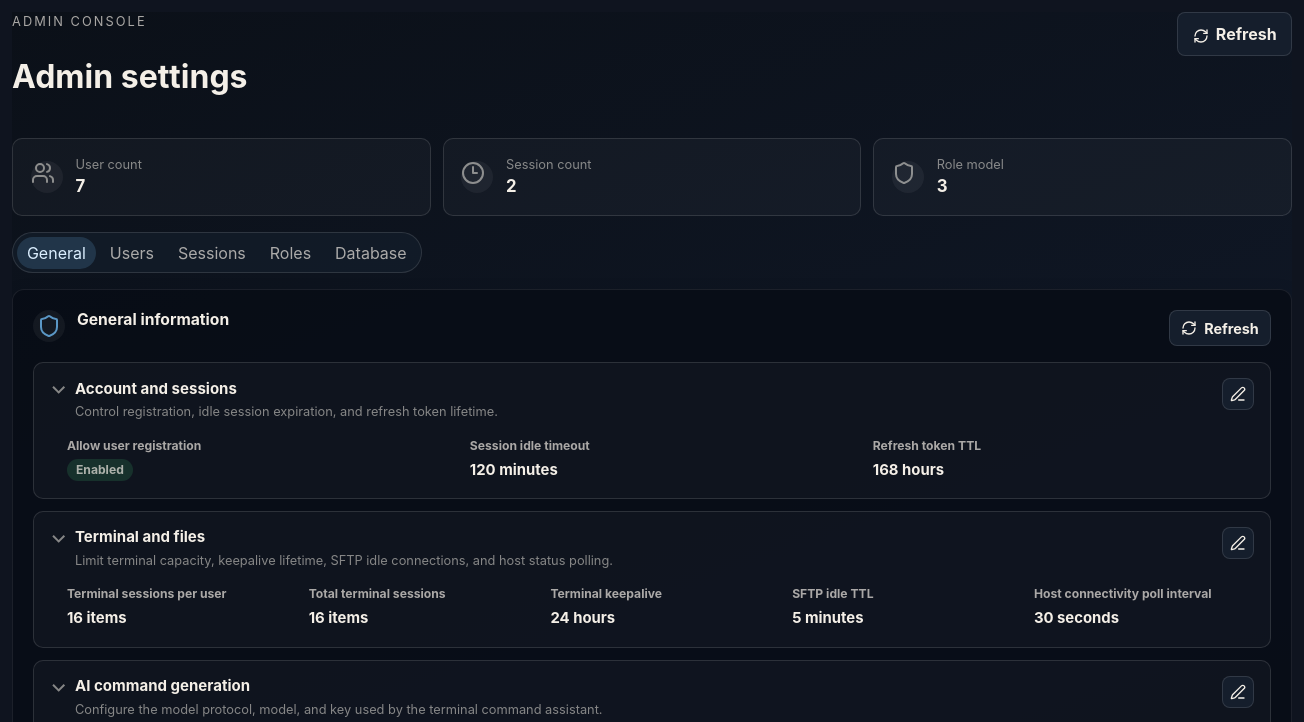
Scenario: AdminPage › edits and saves one general settings card at a time
expect the text "Account and sessions" is shown: met, box x1=48 y1=377 x2=1256 y2=422
expect the text "Terminal and files" is shown: met, box x1=48 y1=526 x2=1256 y2=571
Click the button named "Edit Account and sessions".
click(1238, 394)  # box x1=1222 y1=378 x2=1254 y2=410
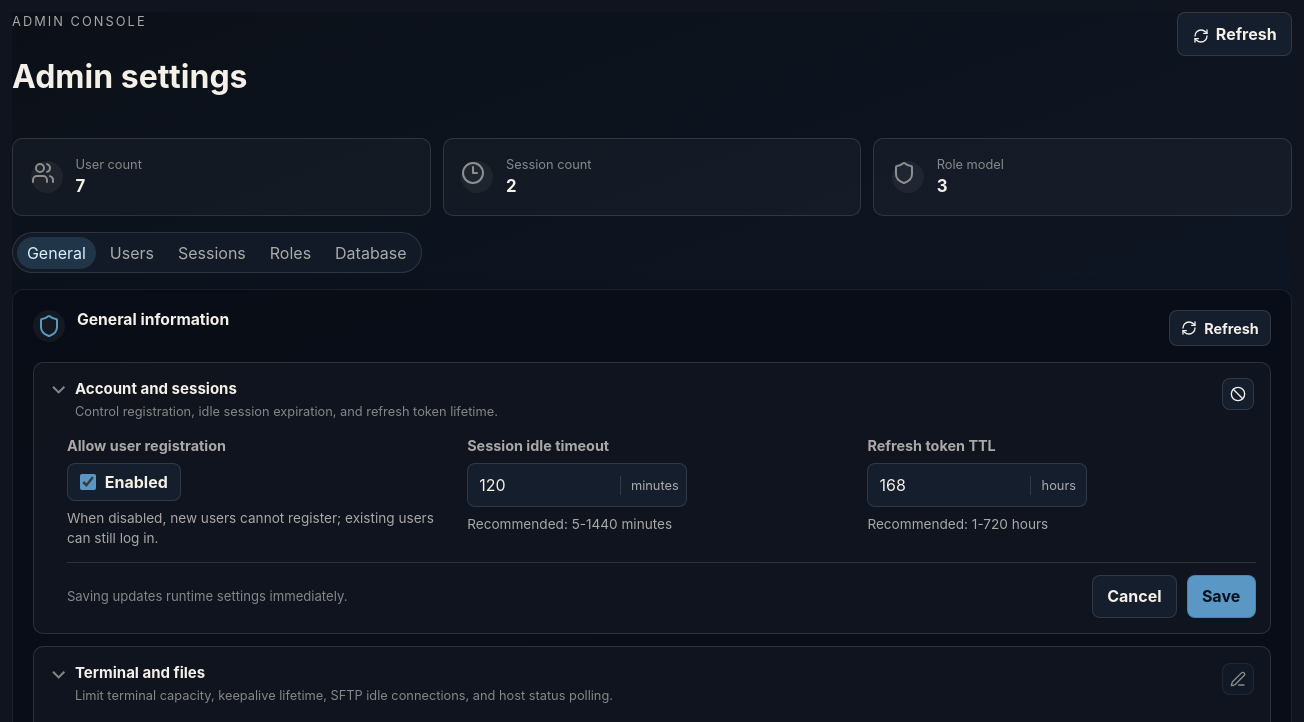
expect the checkbox named "Allow user registration" is checked: met, box x1=80 y1=474 x2=96 y2=490
expect the number field labelled "Session idle timeout" holds "120": met
expect the button named "Cancel Account and sessions" is shown: met, box x1=1222 y1=378 x2=1254 y2=410
Replace the text in the number field labelled "Session idle timeout" with "90" at (544, 485), box x1=468 y1=464 x2=620 y2=506
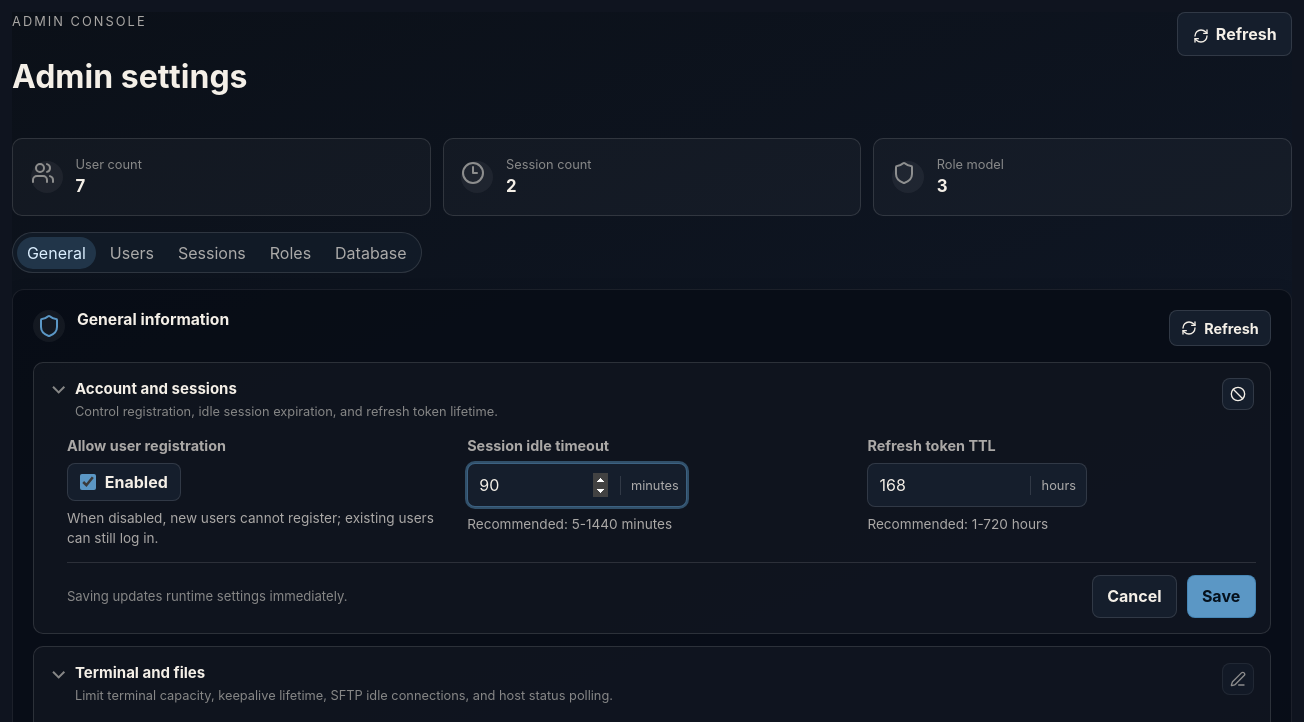
Click the button "Save".
click(1221, 596)  # box x1=1186 y1=575 x2=1256 y2=618
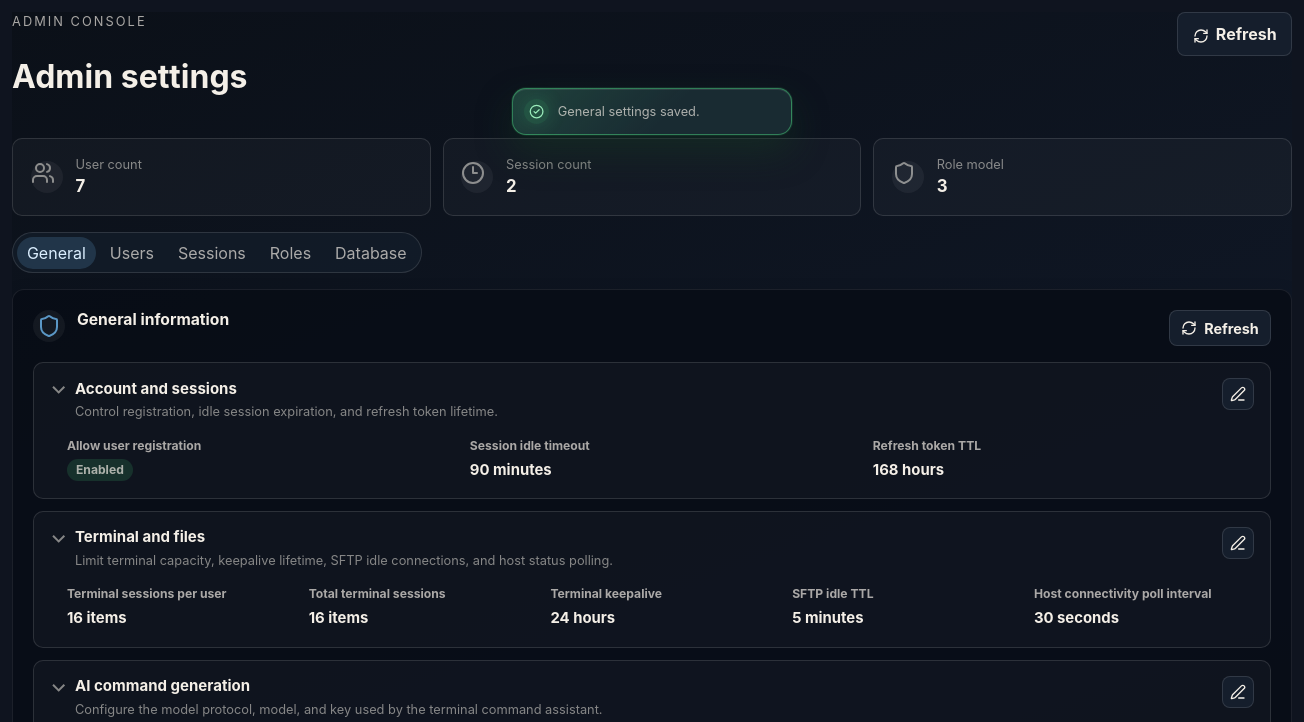
expect the text "Account and sessions" is shown: met, box x1=48 y1=377 x2=1256 y2=422
expect the text "General settings saved." is shown: met, box x1=558 y1=104 x2=700 y2=119
expect the text "90 minutes" is shown: met, box x1=470 y1=461 x2=552 y2=479
